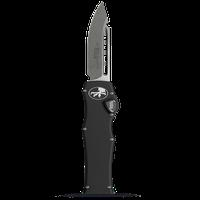knife: (80, 1, 123, 200)
